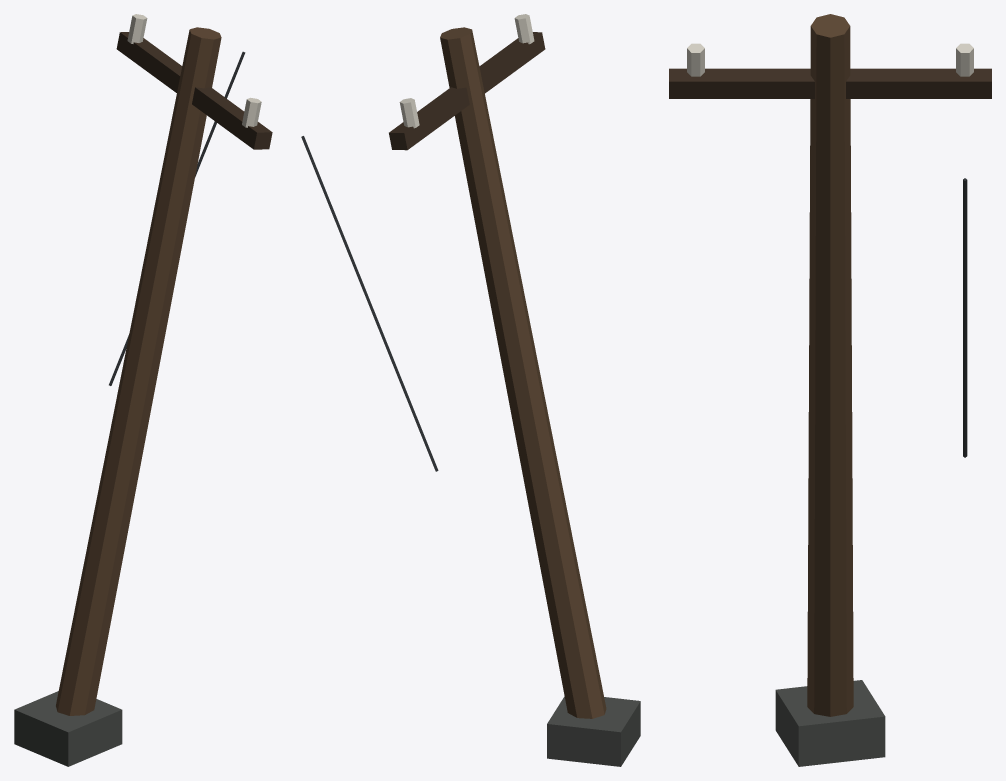
Rendered from Pole_Leaning.fbx.
The picture shows the model from 3 angles, left to right: view 1: azimuth 30°, elevation 25°; view 2: azimuth 150°, elevation 25°; view 3: azimuth 270°, elevation 25°; orthographic projection. The views are drawn at different scales.
Visible parts, largest first — view 1: Pole_Leaning; view 2: Pole_Leaning; view 3: Pole_Leaning.
Boxes of the visible parts, box(x1,y1,x2,y2) form: Pole_Leaning: box(14, 14, 272, 766); Pole_Leaning: box(301, 14, 640, 766); Pole_Leaning: box(669, 14, 991, 766).
Size of the model in its own units: 2.08 by 4.94 by 1.8.
